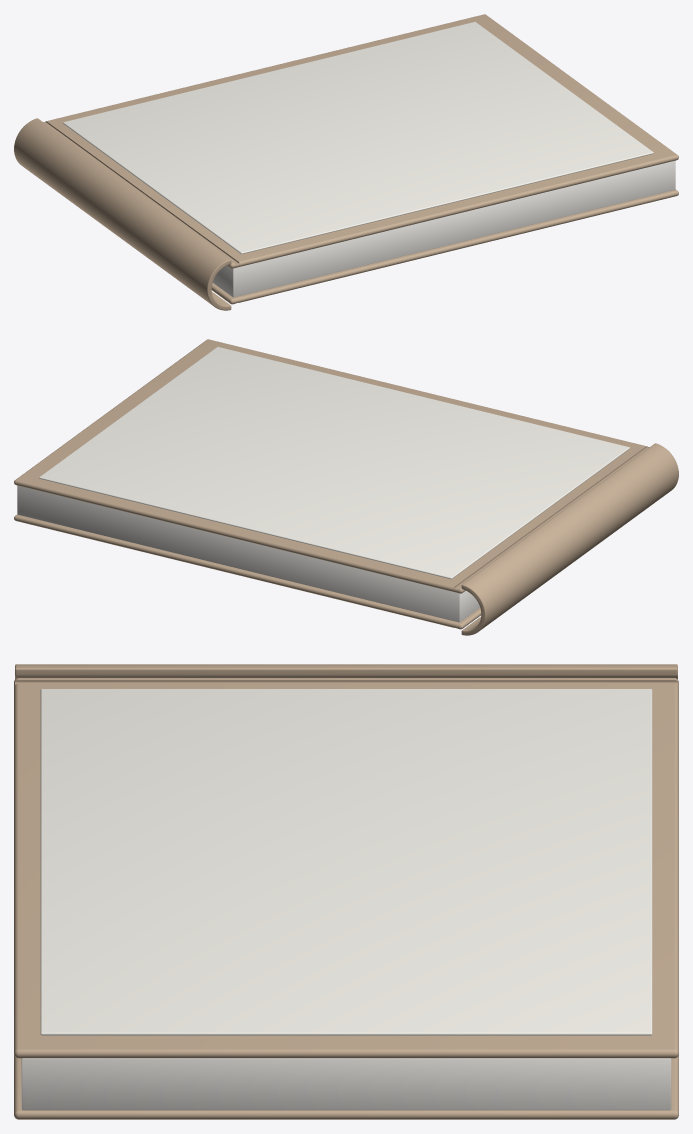
Rendered from laser--landscape.glb.
The picture shows the model from 3 angles, top to bottom: view 1: azimuth 30°, elevation 25°; view 2: azimuth 150°, elevation 25°; view 3: azimuth 270°, elevation 25°; orthographic projection. The views are drawn at different scales.
Visible parts, largest first — view 1: Band, Pages, CoverFront, Spine, CoverBack; view 2: Band, Pages, CoverFront, Spine, CoverBack; view 3: Band, CoverFront, Pages, Spine, CoverBack.
Part boxes in pixels (x1,y1,x2,y2): Band: [63, 22, 653, 254]; Pages: [213, 160, 675, 297]; CoverFront: [43, 14, 678, 268]; Spine: [14, 118, 231, 310]; CoverBack: [211, 189, 678, 304]; Band: [39, 347, 629, 579]; Pages: [17, 485, 479, 622]; CoverFront: [14, 339, 649, 593]; Spine: [461, 443, 678, 635]; CoverBack: [14, 514, 481, 629]; Band: [40, 689, 652, 1035]; CoverFront: [14, 678, 678, 1058]; Pages: [21, 1058, 671, 1110]; Spine: [15, 664, 677, 679]; CoverBack: [14, 1055, 678, 1119].
Bounding box in the file's own units: 0.4208 × 0.043 × 0.3.
